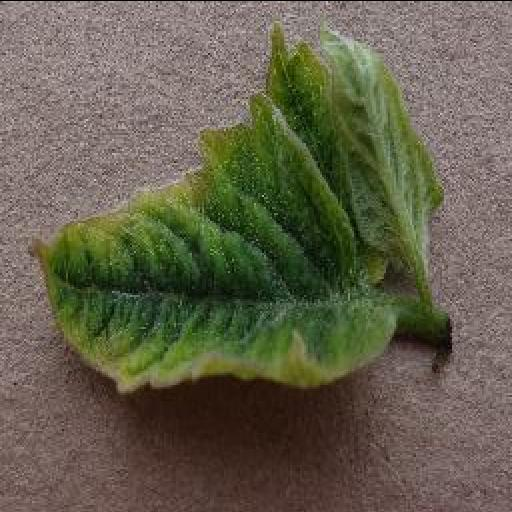disease_tomato: (21, 18, 451, 398)
